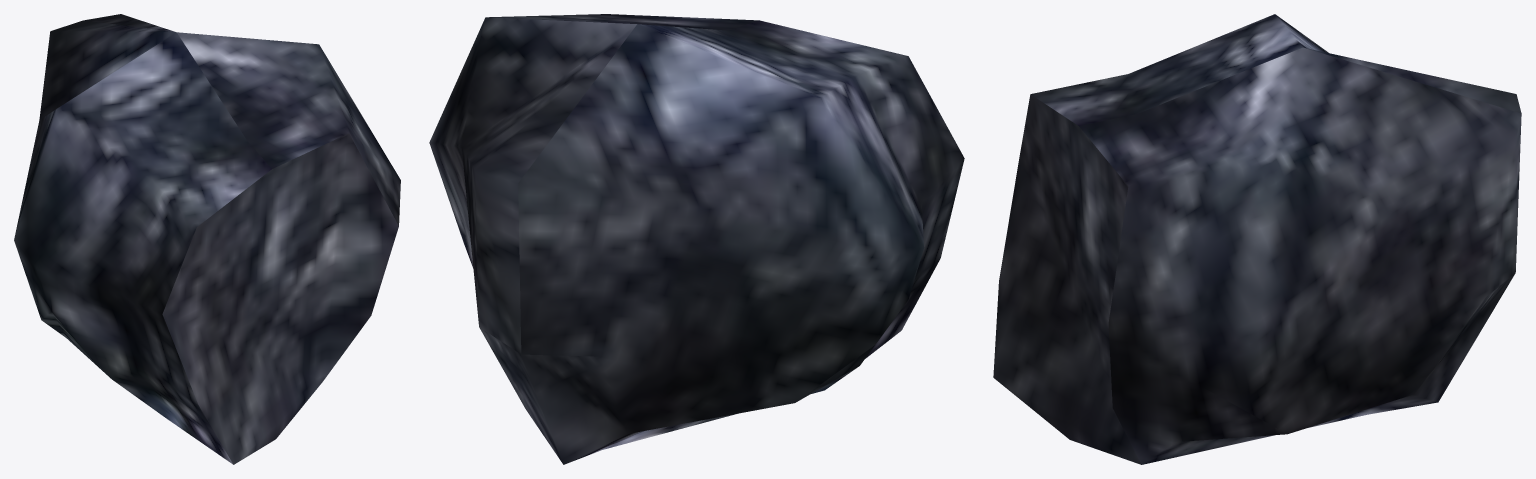
The model's file is nar_condra_7_pelvis.glb.
The picture shows the model from 3 angles, left to right: view 1: azimuth 30°, elevation 25°; view 2: azimuth 150°, elevation 25°; view 3: azimuth 270°, elevation 25°; orthographic projection. The views are drawn at different scales.
Visible parts, largest first — view 1: model_nar_condra_7_pelvis; view 2: model_nar_condra_7_pelvis; view 3: model_nar_condra_7_pelvis.
Part boxes in pixels (bbox=[...]): model_nar_condra_7_pelvis: bbox=[14, 14, 400, 464]; model_nar_condra_7_pelvis: bbox=[429, 14, 964, 464]; model_nar_condra_7_pelvis: bbox=[993, 14, 1521, 464].
Bounding box in the file's own units: 0.4523 × 0.3969 × 0.4843.
1 material, 1 textured.
